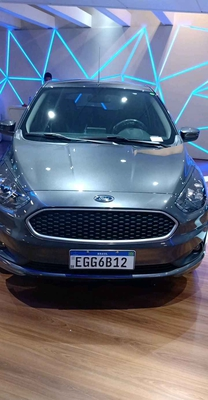Frontal Veiculo: (1, 84, 207, 284)
